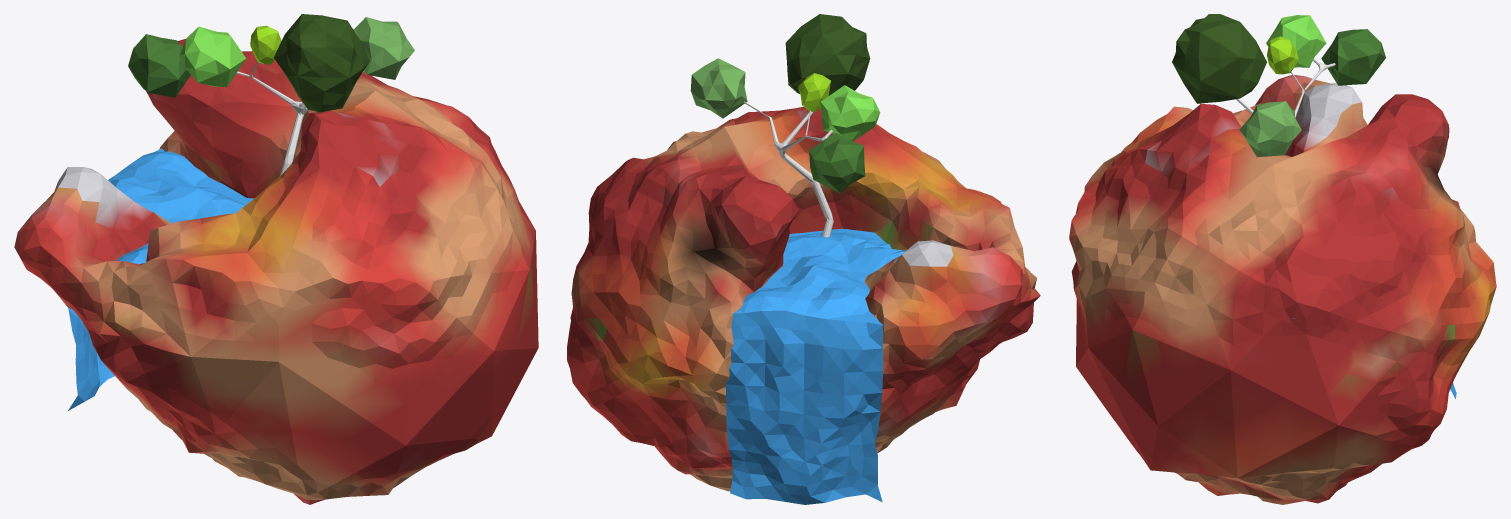
The model's file is low_poly_spacerock.gltf.
3 views of the same model, side by side, from view 1: azimuth 30°, elevation 25°; view 2: azimuth 150°, elevation 25°; view 3: azimuth 270°, elevation 25° (orthographic). The views are drawn at different scales.
Visible parts, largest first — view 1: Icosphere, Plane.001, Icosphere.002, Icosphere.004, Icosphere.005, Icosphere.003, Plane, Icosphere.001; view 2: Icosphere, Plane.001, Icosphere.002, Icosphere.005, Icosphere.003, Icosphere.004, Plane, Icosphere.001; view 3: Icosphere, Icosphere.002, Icosphere.005, Icosphere.003, Icosphere.004, Icosphere.001.
Boxes of the visible parts, <box> form: Icosphere: <box>14,39,538,504</box>; Plane.001: <box>67,148,253,410</box>; Icosphere.002: <box>273,14,369,112</box>; Icosphere.004: <box>179,26,246,87</box>; Icosphere.005: <box>128,34,190,97</box>; Icosphere.003: <box>353,17,414,79</box>; Plane: <box>236,62,363,176</box>; Icosphere.001: <box>250,25,281,64</box>; Icosphere: <box>567,106,1040,491</box>; Plane.001: <box>725,228,906,504</box>; Icosphere.002: <box>785,14,870,95</box>; Icosphere.005: <box>809,133,865,193</box>; Icosphere.003: <box>690,58,747,118</box>; Icosphere.004: <box>820,85,880,140</box>; Plane: <box>743,101,833,237</box>; Icosphere.001: <box>798,73,830,112</box>; Icosphere: <box>1069,74,1496,504</box>; Icosphere.002: <box>1172,14,1266,103</box>; Icosphere.005: <box>1321,29,1385,85</box>; Icosphere.003: <box>1239,101,1301,157</box>; Icosphere.004: <box>1266,15,1326,67</box>; Icosphere.001: <box>1267,36,1298,74</box>.
Size of the model in its own units: 6.33 by 6.22 by 5.36.
